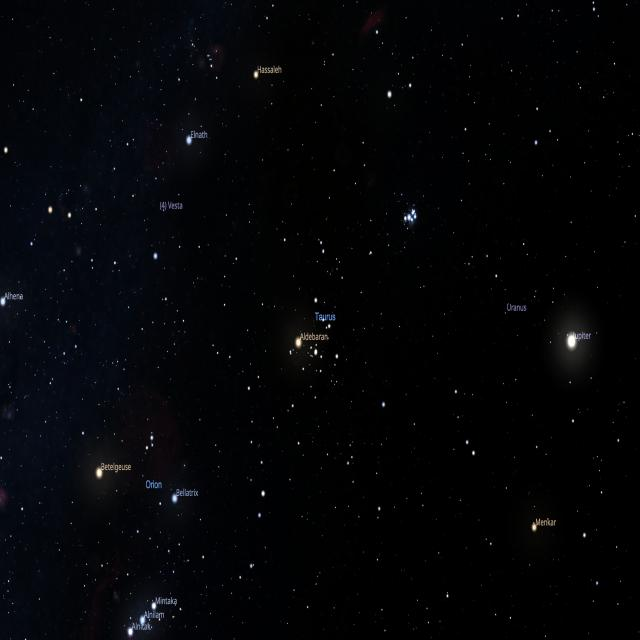Taurus: (153, 132, 479, 458)
